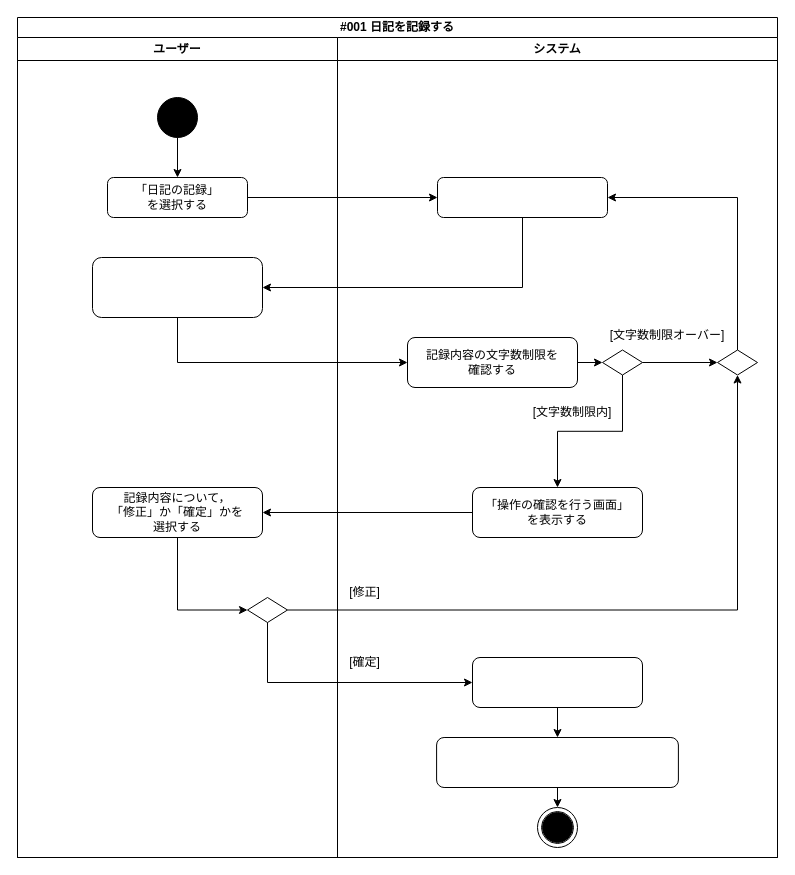
Image size: 795x875. Some labels were removed from this diagram. The shapes that lost their labels are listed below. From the top down, each one's centre as x and y in pixels, then its label:
At point 522,197: "「日記を記録する入力画面」 を表示する".
At point 177,287: "日記の記録内容を入力し， 「内容確認」を選択する".
At point 557,682: "日記の記録内容を 確定する".
At point 557,762: "「過去の日記を表示する画面」 を表示する".
